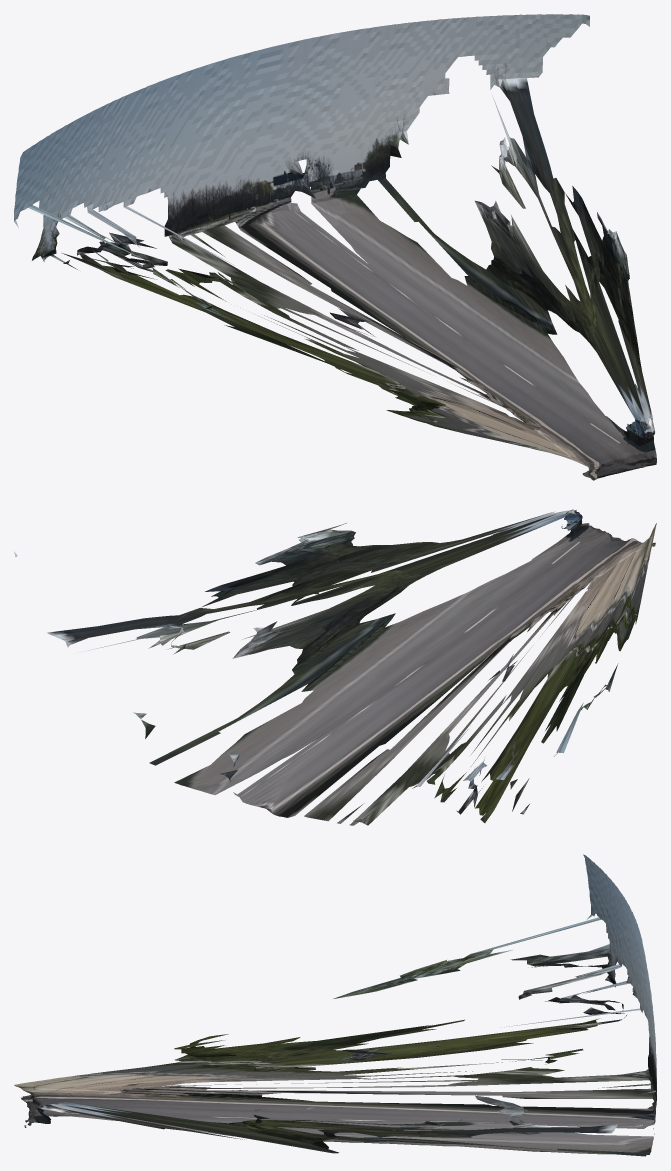
The picture shows the model from 3 angles, top to bottom: view 1: azimuth 30°, elevation 25°; view 2: azimuth 150°, elevation 25°; view 3: azimuth 270°, elevation 25°; orthographic projection. The views are drawn at different scales.
Parts seen in each view (by area): view 1: defaultobject; view 2: defaultobject; view 3: defaultobject.
Boxes of the visible parts, x1,y1,x2,y2 form: defaultobject: (14, 14, 656, 480); defaultobject: (14, 509, 656, 825); defaultobject: (14, 854, 656, 1156).
Bounding box in the file's own units: 40.8 × 12.09 × 45.14.
1 material, 1 textured.
